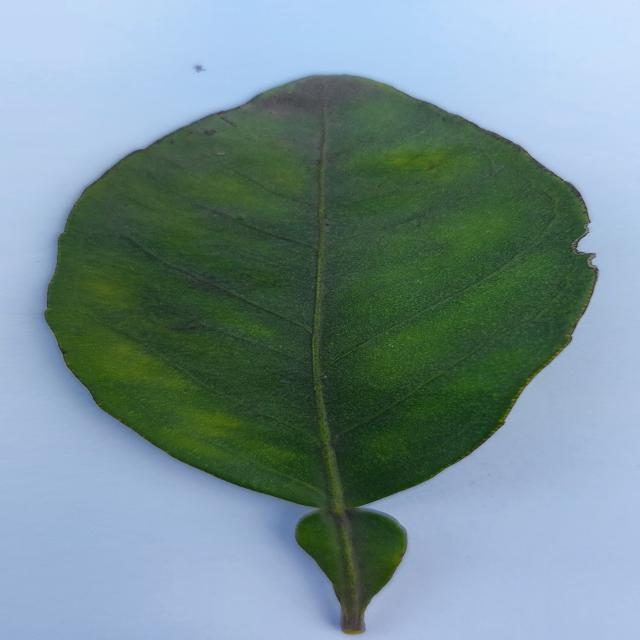greening: (47, 75, 596, 633)
